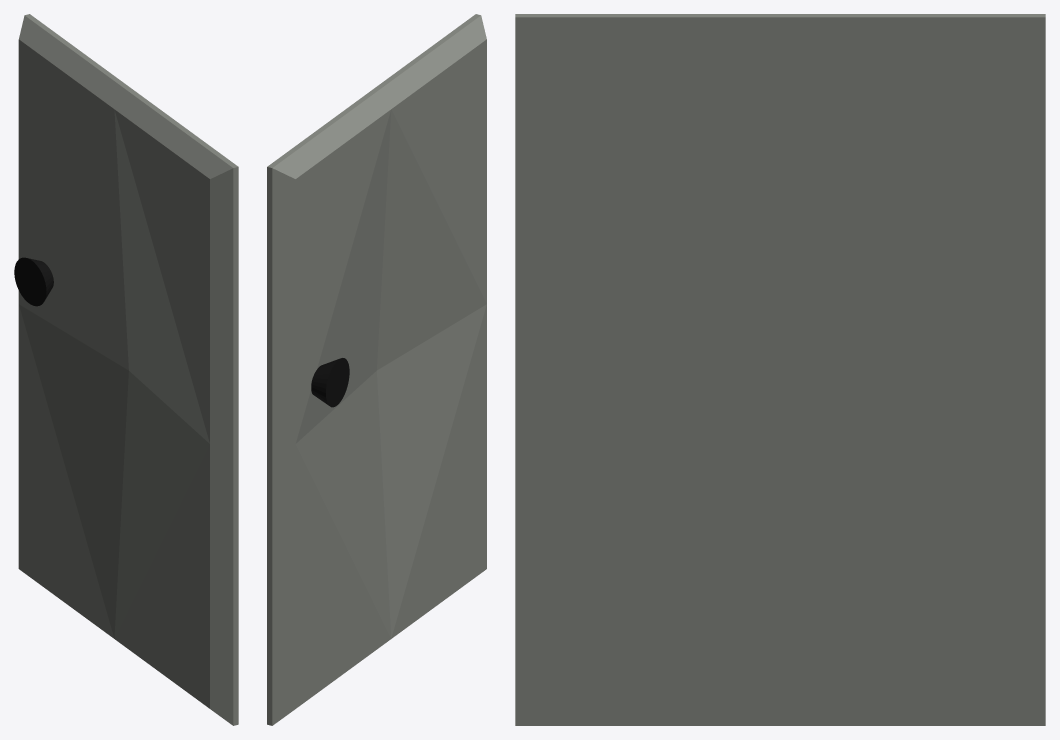
Rendered from mesa_centro_puerta3.obj.
3 renders of one model, left to right at view 1: azimuth 30°, elevation 25°; view 2: azimuth 150°, elevation 25°; view 3: azimuth 270°, elevation 25°, orthographic. The views are drawn at different scales.
Parts seen in each view (by area): view 1: Cubo.027_Cubo.025; view 2: Cubo.027_Cubo.025; view 3: Cubo.027_Cubo.025.
Part boxes in pixels (x1,y1,x2,y2): Cubo.027_Cubo.025: (14,14,238,725); Cubo.027_Cubo.025: (267,14,486,725); Cubo.027_Cubo.025: (515,14,1045,725).
Size of the model in its own units: 0.0699 by 1 by 0.6797.
